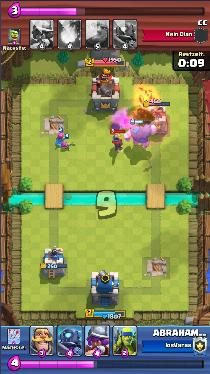ally_archer: (54, 131, 65, 146), (59, 142, 71, 151)
ally_fireball: (132, 101, 165, 133)
ally_giant: (126, 121, 156, 150)
enemy_knight: (111, 132, 124, 151)
